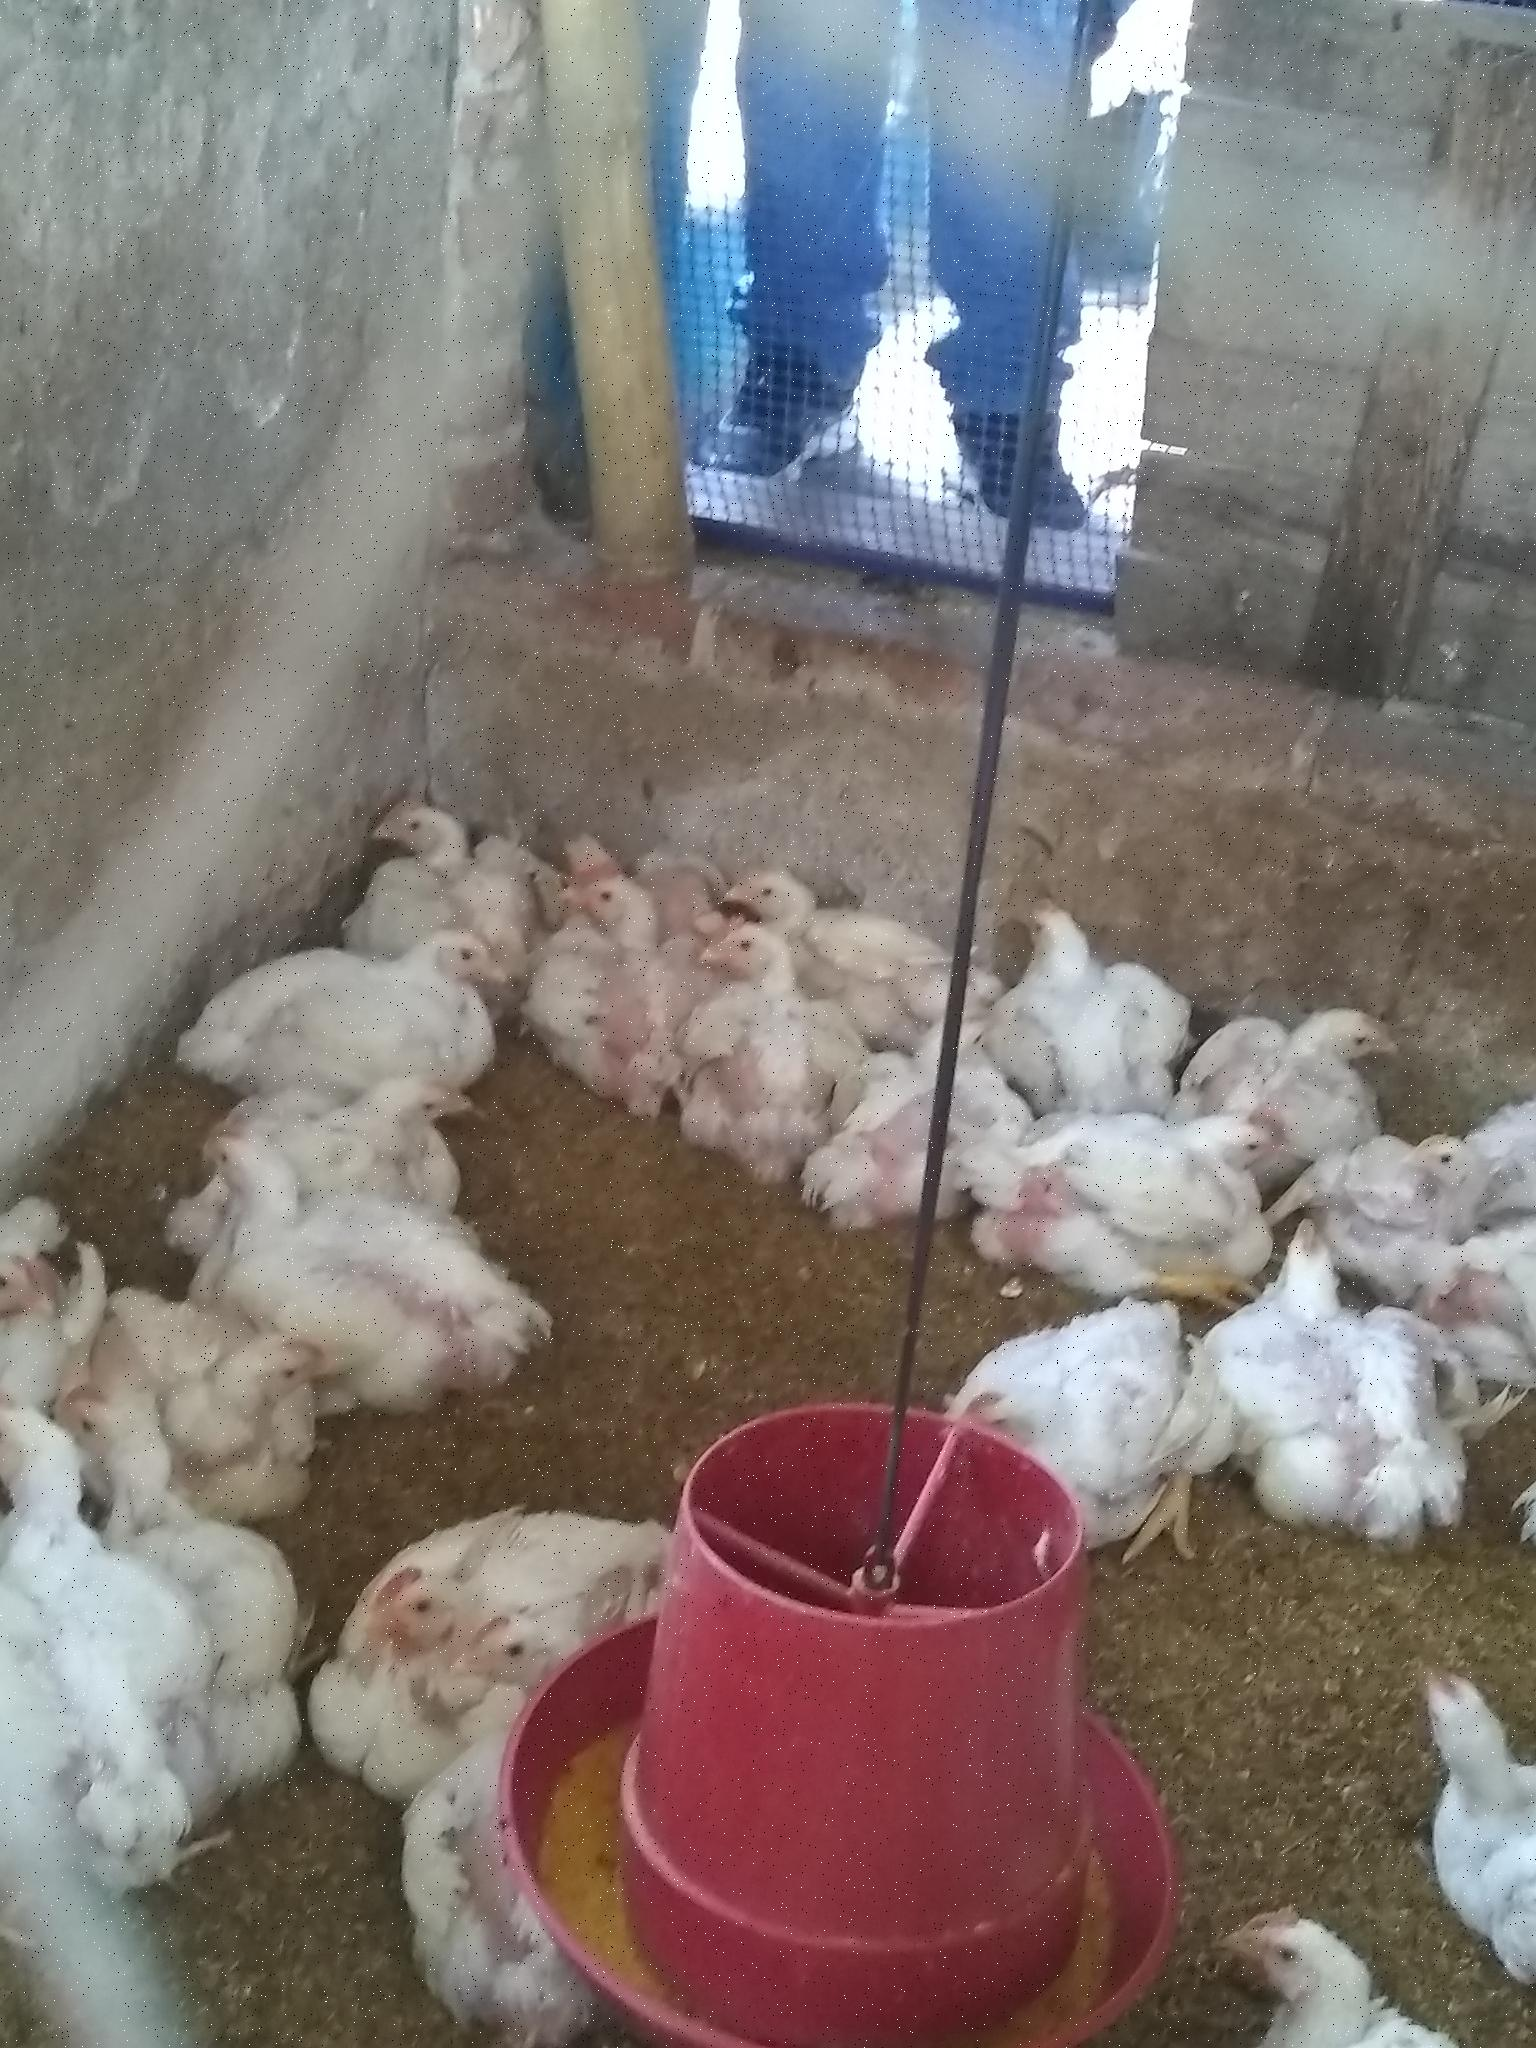Pollos: (424, 1555, 662, 2048), (2, 1401, 215, 1827), (1221, 1206, 1460, 1558), (928, 1279, 1179, 1564), (1120, 1900, 1475, 2048), (1029, 1087, 1271, 1300), (833, 1021, 1037, 1234), (1417, 1640, 1536, 1990), (177, 1118, 344, 1316), (994, 898, 1176, 1074), (1218, 980, 1447, 1114), (252, 935, 507, 1048), (186, 1316, 323, 1480), (558, 868, 689, 1032), (2, 1155, 90, 1351), (328, 1077, 478, 1190), (336, 1555, 457, 1682), (56, 1367, 163, 1509), (382, 808, 516, 914), (1397, 1089, 1502, 1221), (700, 913, 795, 1014), (729, 868, 818, 918)
